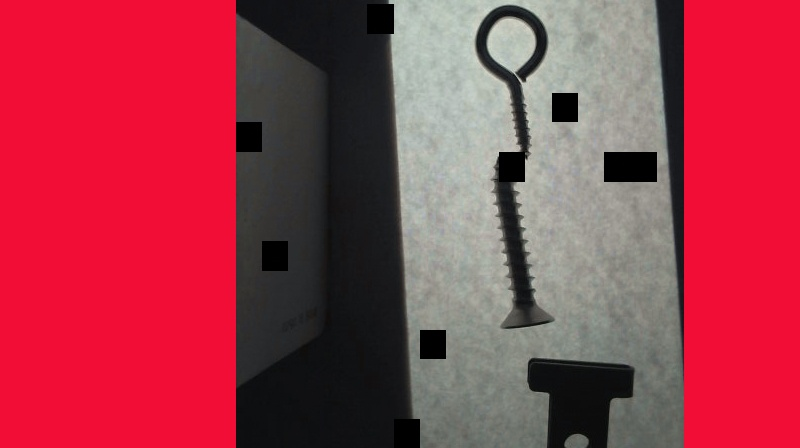O001: (476, 3, 550, 158)
O002: (521, 354, 635, 447)
S001: (490, 153, 555, 328)
